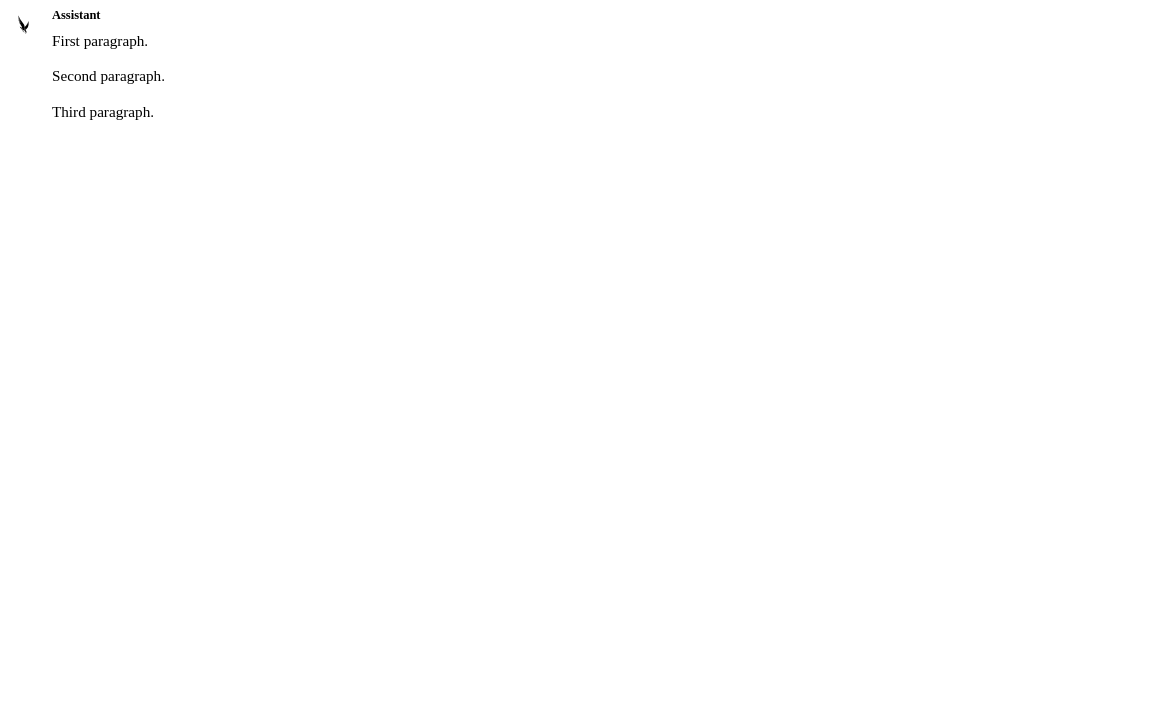
Test: ChatMessage text marks › supports keyboard activation for adding and editing comments
Step 1. Press Enter in the button with aria-label "Marked text. Activate to add a comment.", box x1=52 y1=66 x2=97 y2=85
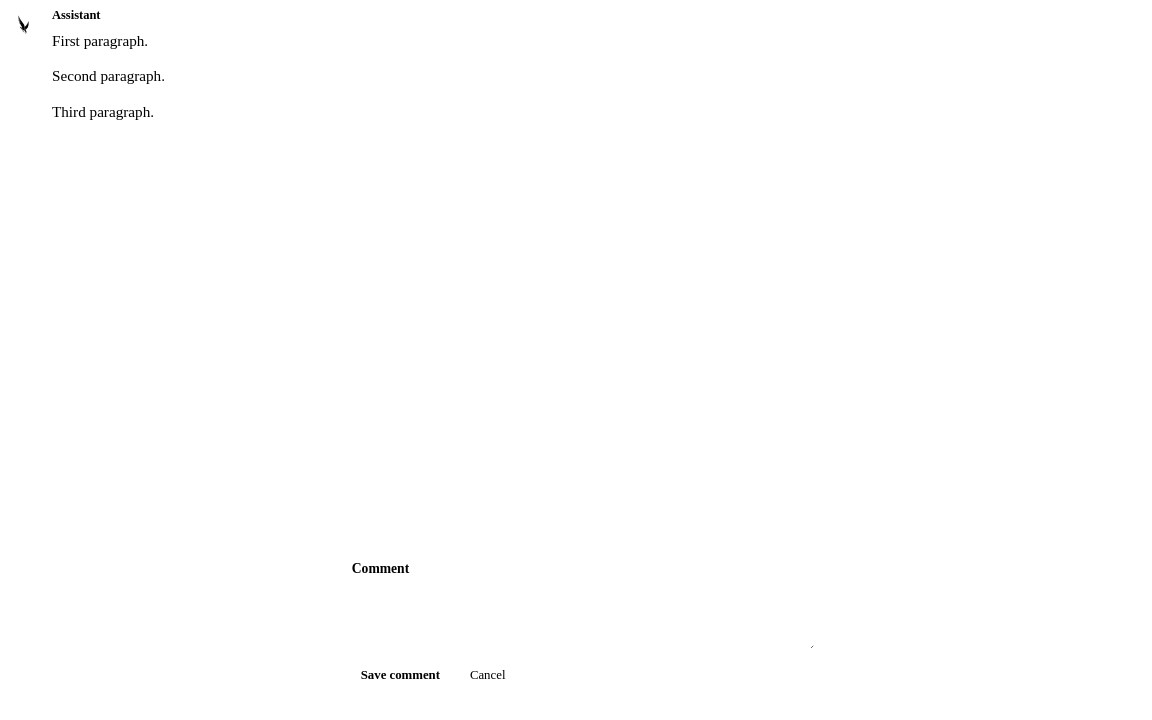
Check: the dialog named "Add reading comment" is shown, box x1=339 y1=548 x2=813 y2=704
Step 2. Click the button "Cancel" → click(488, 675), box x1=461 y1=659 x2=515 y2=691
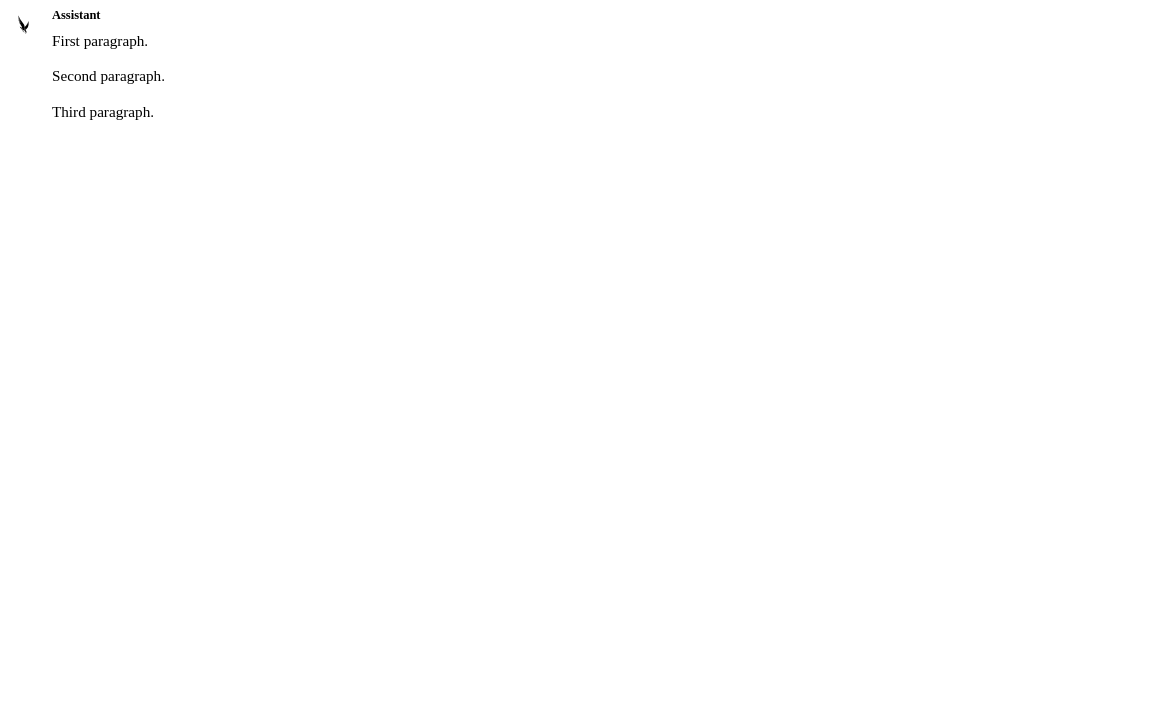
Step 3. Press Space in the button with aria-label "Commented text. Activate to edit comment.", box x1=52 y1=102 x2=86 y2=120
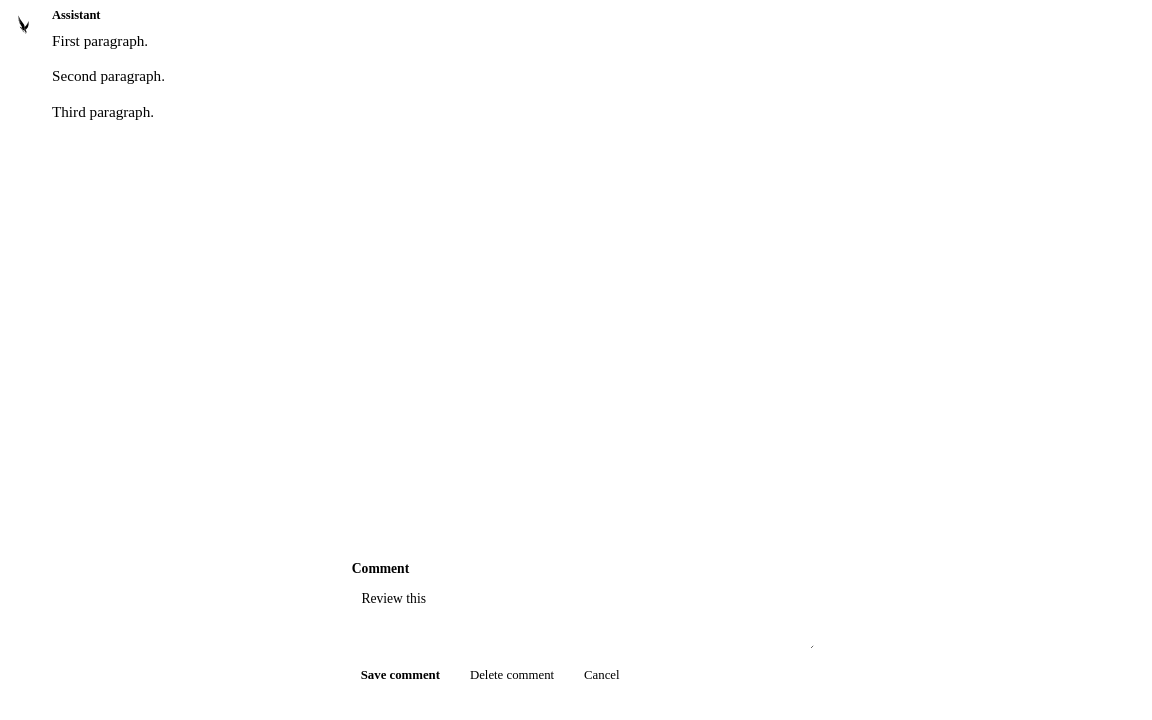
Check: the dialog named "Edit reading comment" is shown, box x1=339 y1=548 x2=813 y2=704
